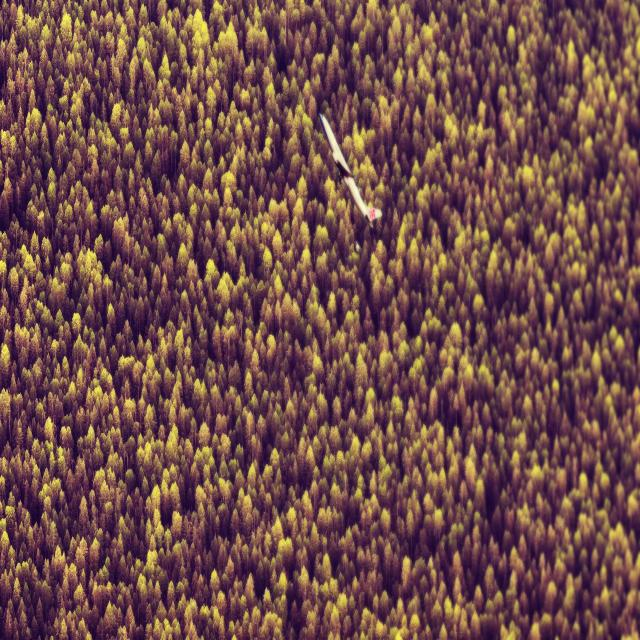airplane: (318, 111, 382, 230)
